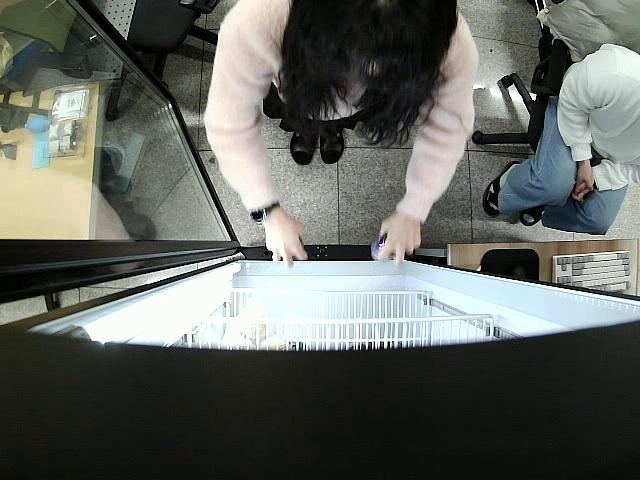14_welchsGrape: (370, 233, 399, 263)
